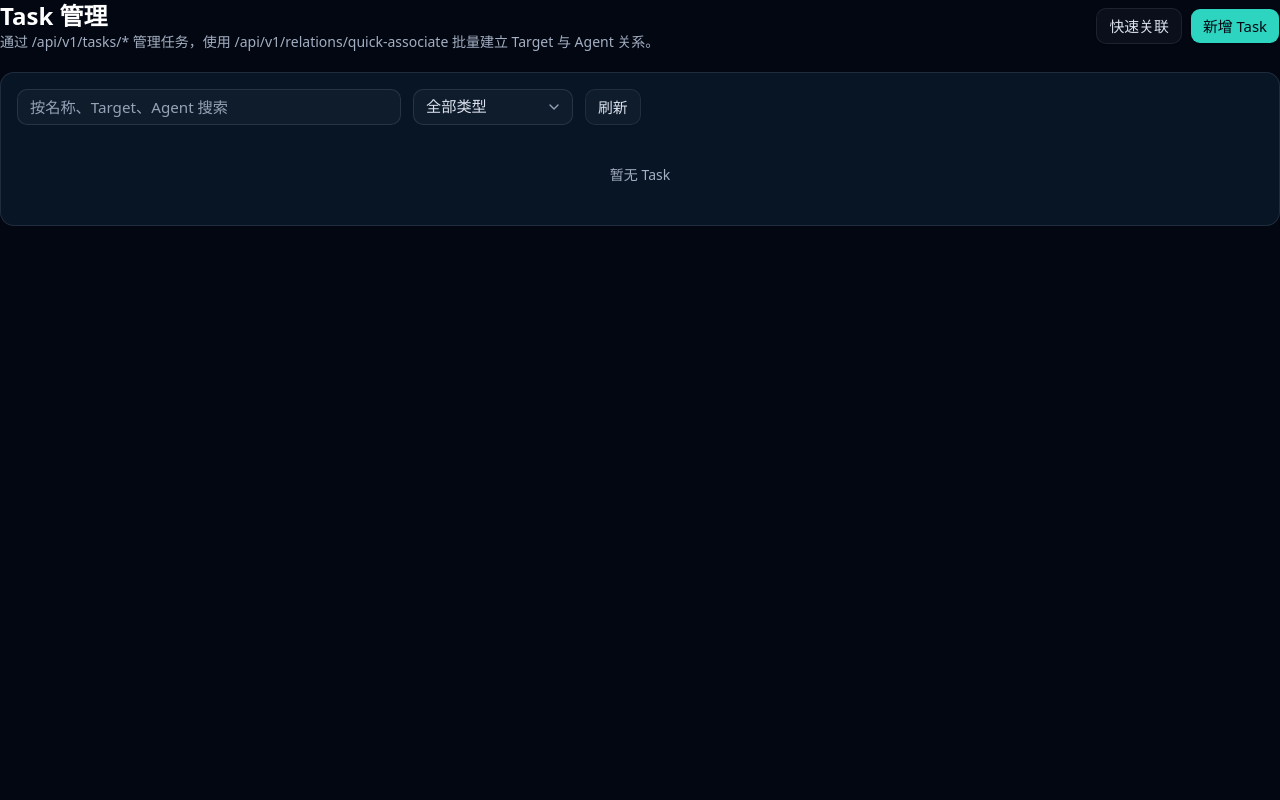
Test: TasksPage › does not render raw Target addresses in task target selectors
Click the button "新增 Task" at (1235, 26), box 1190,8 -> 1279,44
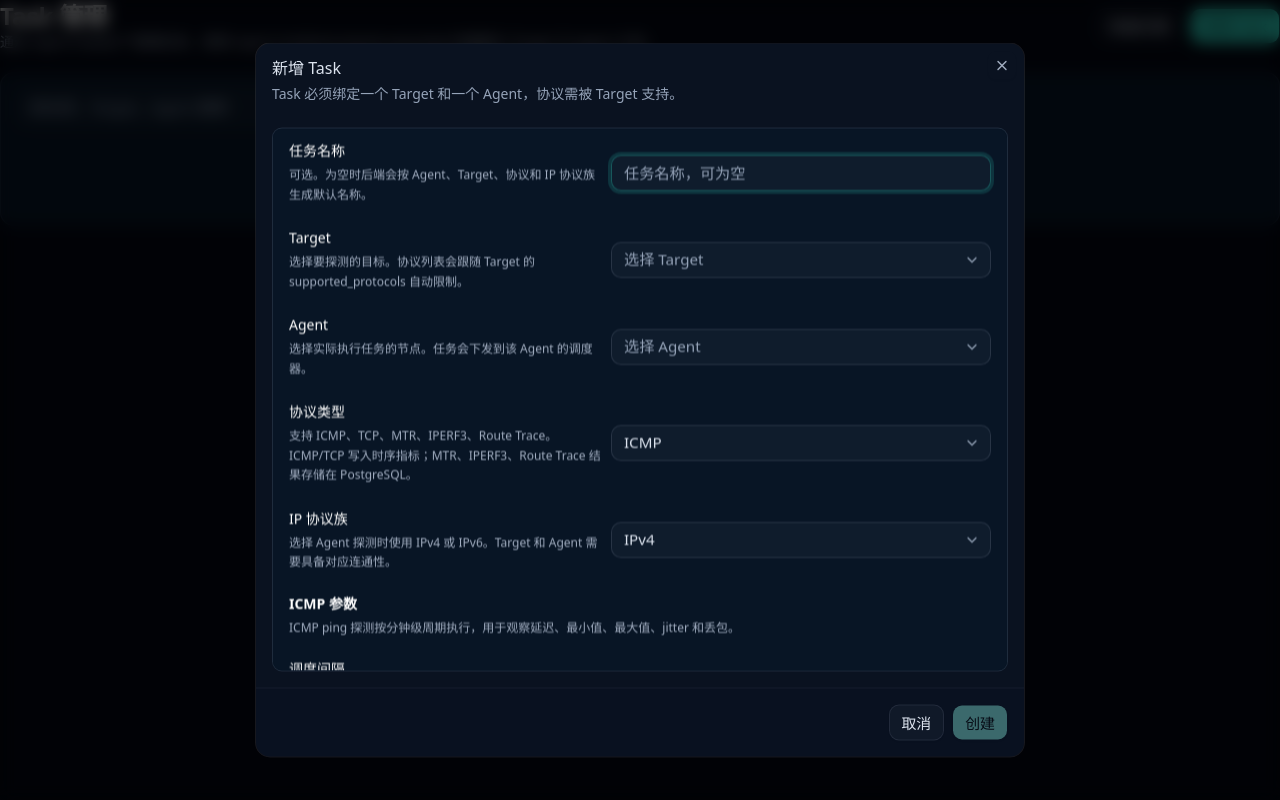
Click the dropdown labelled "Target" at (664, 258), box 611,241 -> 991,277
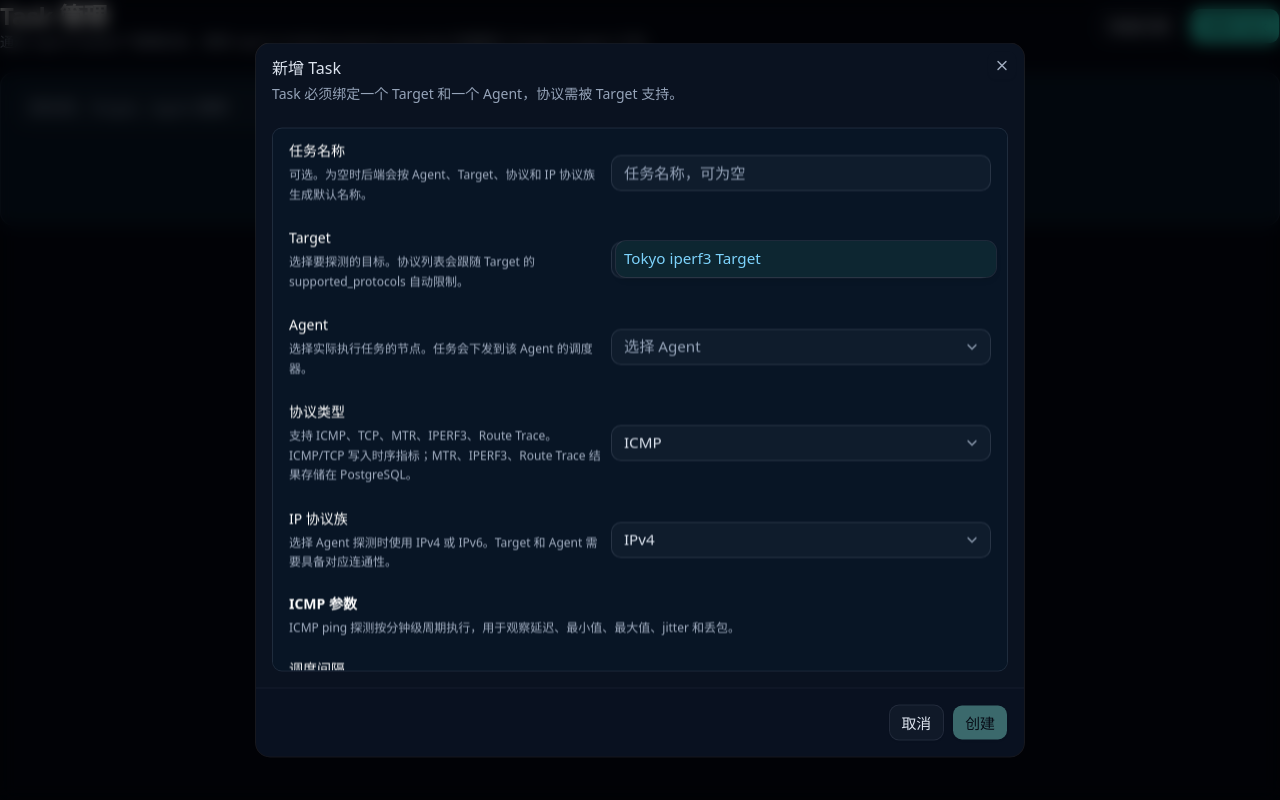
expect the option "Tokyo iperf3 Target" is shown: met, box 616,241 -> 996,277
